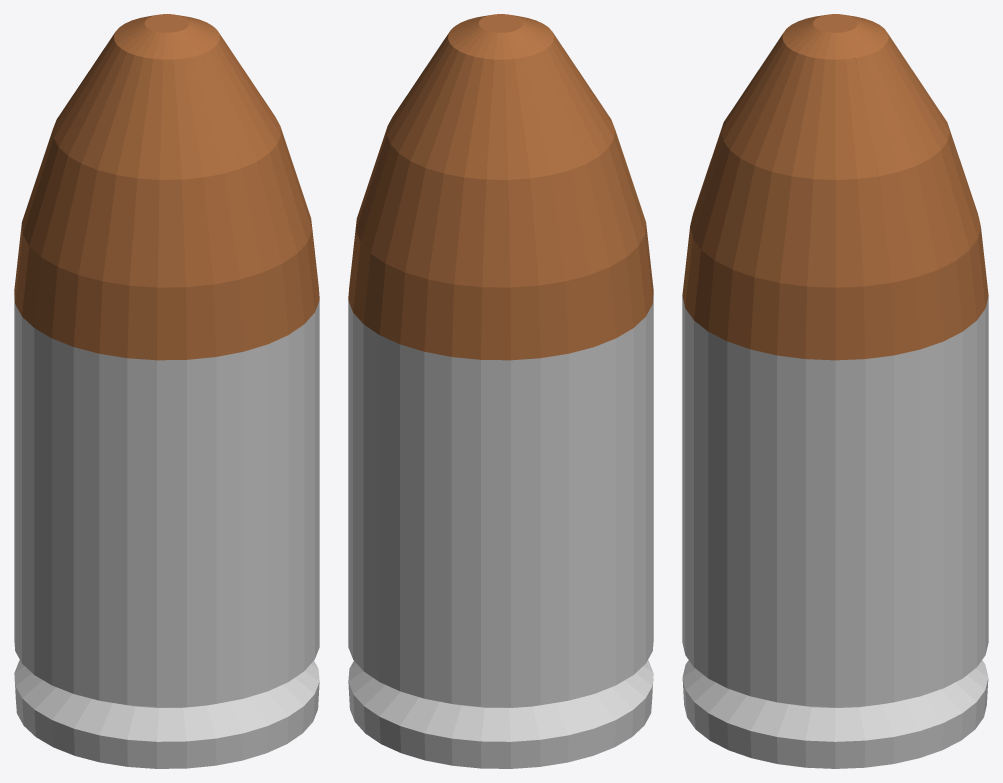
Rendered from ExportedBlenderFBXFile.fbx.
3 renders of one model, left to right at view 1: azimuth 30°, elevation 25°; view 2: azimuth 150°, elevation 25°; view 3: azimuth 270°, elevation 25°, orthographic.
Visible parts, largest first — view 1: Cylinder_001, Cylinder; view 2: Cylinder_001, Cylinder; view 3: Cylinder_001, Cylinder.
Part boxes in pixels (x1,y1,x2,y2): Cylinder_001: (14, 295, 319, 768); Cylinder: (14, 14, 319, 360); Cylinder_001: (348, 295, 653, 768); Cylinder: (348, 14, 653, 360); Cylinder_001: (682, 296, 988, 768); Cylinder: (682, 14, 988, 360).
Bounding box in the file's own units: 2 × 4.91 × 2.
